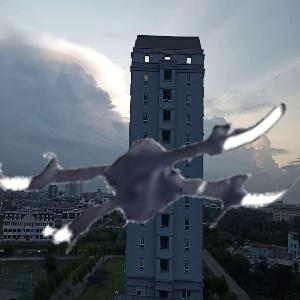drone: (4, 6, 295, 297)
